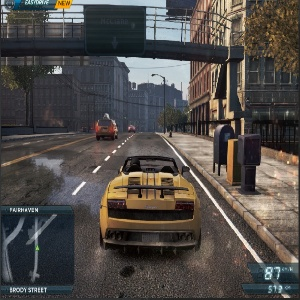building: (190, 6, 300, 128), (129, 78, 186, 134)
lamp post: (150, 72, 170, 136)
mailbox: (228, 132, 263, 193), (214, 123, 232, 176)
tree: (6, 5, 48, 129), (241, 4, 300, 68), (159, 104, 187, 132)
vehicle: (95, 112, 119, 140), (126, 124, 138, 133)
